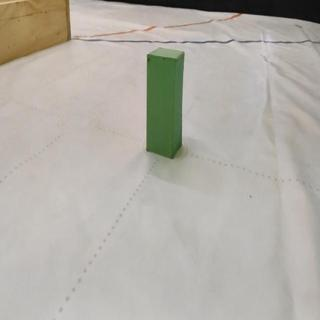greenbox: (145, 45, 185, 161)
